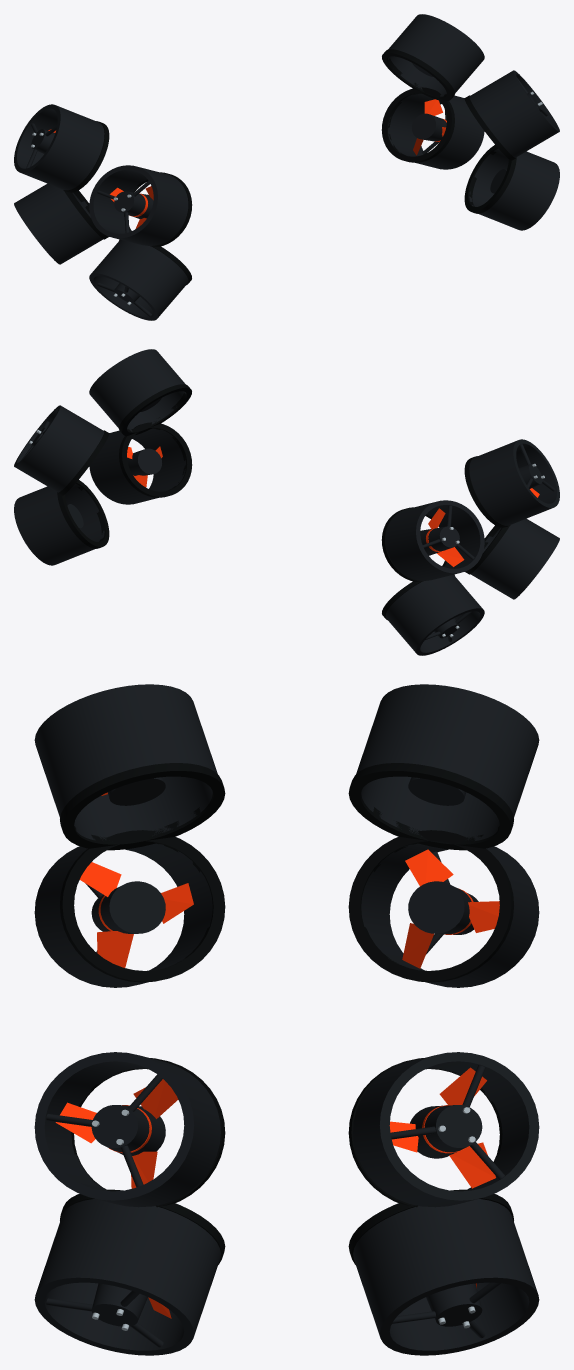
File: rov_thrusters.dae
The picture shows the model from 3 angles, top to bottom: view 1: azimuth 30°, elevation 25°; view 2: azimuth 150°, elevation 25°; view 3: azimuth 270°, elevation 25°; orthographic projection. The views are drawn at different scales.
Parts seen in each view (by area): view 1: node0, node1, node2; view 2: node0, node1, node2; view 3: node0, node1, node2.
Boxes of the visible parts, box(x1,y1,x2,y2) form: node0: box(14, 14, 559, 320); node1: box(63, 49, 516, 284); node2: box(48, 99, 446, 228); node0: box(14, 349, 559, 655); node1: box(57, 384, 510, 619); node2: box(127, 446, 539, 566); node0: box(34, 684, 539, 1355); node1: box(60, 763, 513, 1264); node2: box(55, 792, 499, 1318).
Bounding box in the file's own units: 0.5961 × 0.2855 × 0.1881.
